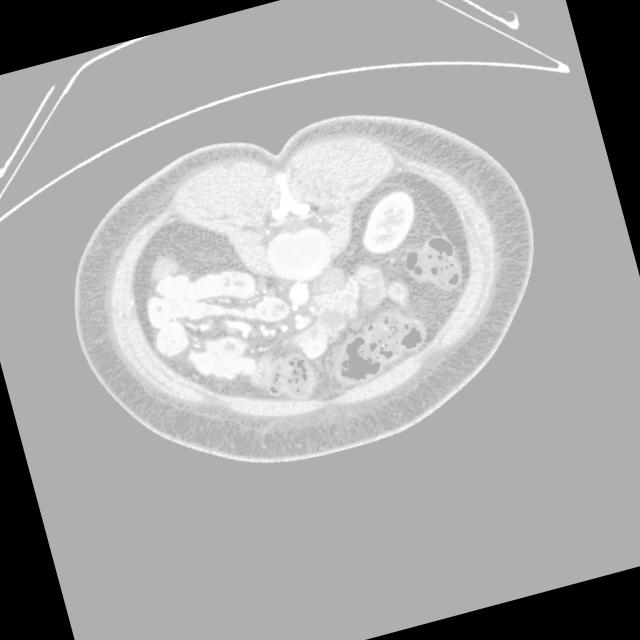NORMAL: (27, 57, 592, 541)
